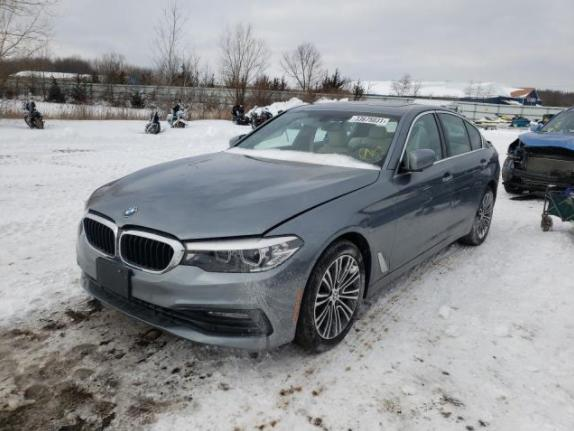Back-bumper: (495, 165, 500, 201)
Back-door: (435, 110, 488, 238)
Back-wheel: (456, 185, 494, 246)
Back-window: (438, 113, 481, 156)
Fender: (263, 170, 399, 286), (86, 174, 133, 208)
Front-bumper: (76, 218, 316, 351)
Front-door: (390, 110, 455, 273)
Front-wheel: (291, 239, 366, 353)
Front-window: (397, 113, 443, 175)
Grille: (81, 213, 185, 274)
Headlight: (179, 234, 305, 273)
Hood: (88, 151, 379, 241)
License-plate: (96, 257, 128, 298)
Mirror: (399, 149, 435, 173), (228, 134, 248, 148)
Quarter-panel: (468, 136, 499, 231)
Rocker-panel: (366, 226, 469, 298)
Roof: (287, 102, 432, 115)
Windshield: (226, 111, 401, 169)
